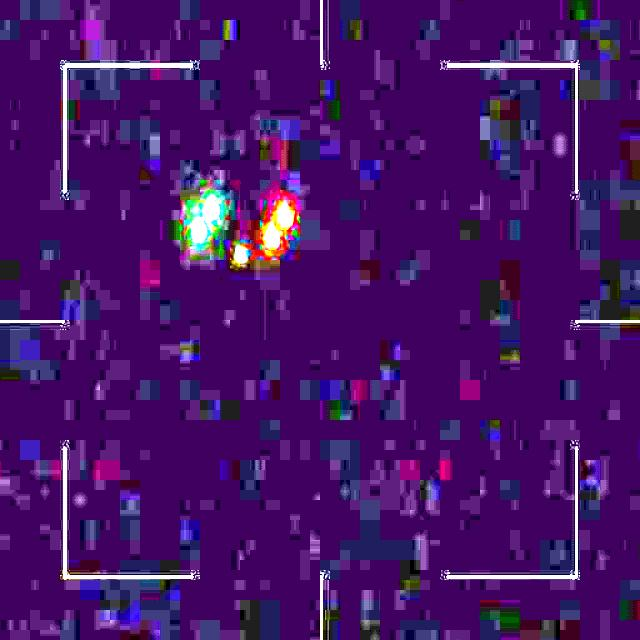bird: (192, 194, 295, 268)
